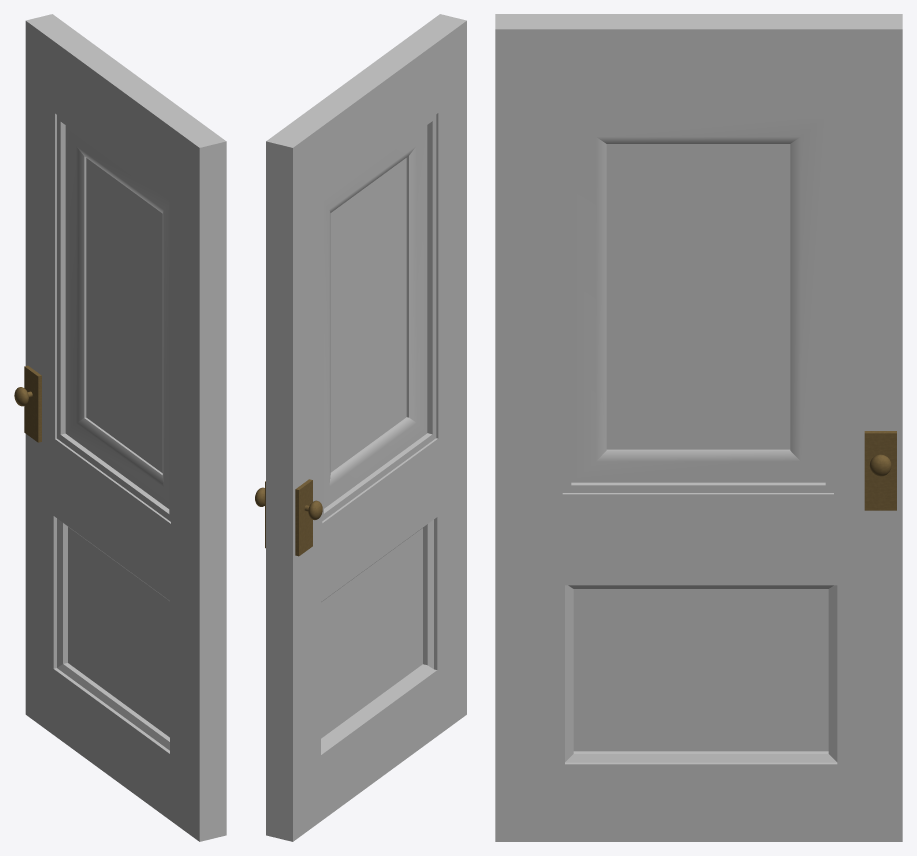
The model's file is SM_WD32_DOOR.fbx.
The picture shows the model from 3 angles, left to right: view 1: azimuth 30°, elevation 25°; view 2: azimuth 150°, elevation 25°; view 3: azimuth 270°, elevation 25°; orthographic projection. The views are drawn at different scales.
Visible parts, largest first — view 1: SM_WD32_DOOR; view 2: SM_WD32_DOOR; view 3: SM_WD32_DOOR.
Boxes of the visible parts, left/top/right/bottom form: SM_WD32_DOOR: left=14, top=14, right=226, bottom=841; SM_WD32_DOOR: left=255, top=14, right=466, bottom=841; SM_WD32_DOOR: left=495, top=14, right=902, bottom=841.
Size of the model in its own units: 20.87 by 97.47 by 214.
